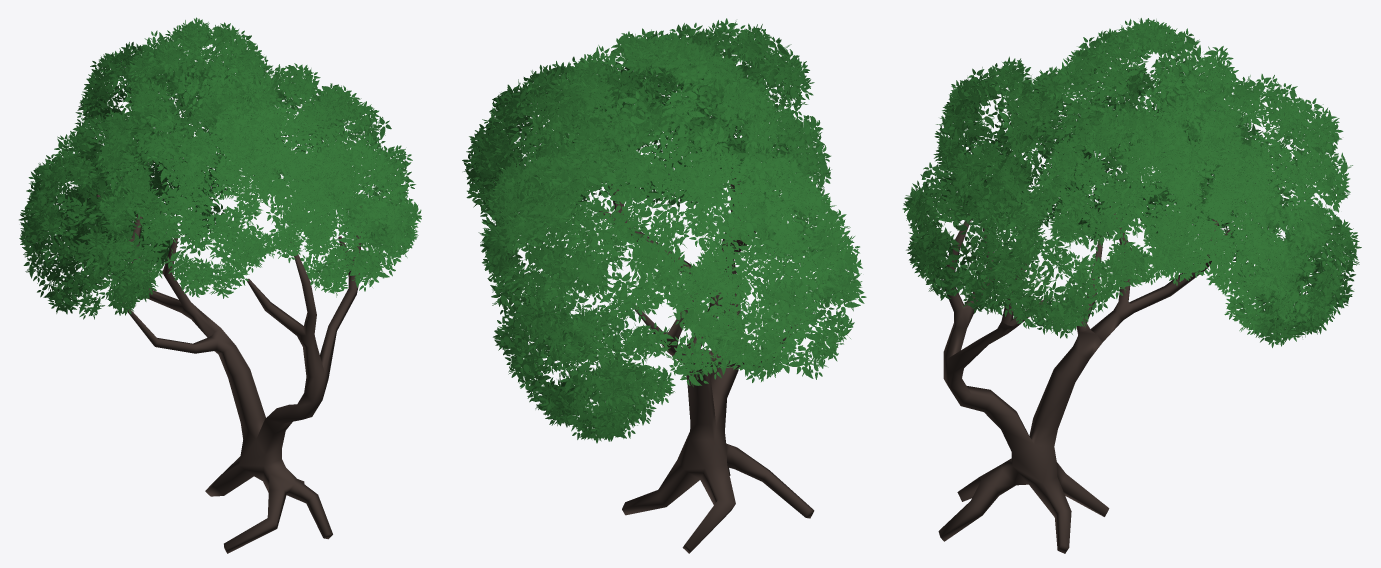
File: Tree1.fbx
The picture shows the model from 3 angles, left to right: view 1: azimuth 30°, elevation 25°; view 2: azimuth 150°, elevation 25°; view 3: azimuth 270°, elevation 25°; orthographic projection. The views are drawn at different scales.
Parts seen in each view (by area): view 1: Plane.006; view 2: Plane.006; view 3: Plane.006.
Boxes of the visible parts, x1=… form: Plane.006: x1=19, y1=17, x2=421, y2=553; Plane.006: x1=462, y1=18, x2=866, y2=553; Plane.006: x1=902, y1=18, x2=1361, y2=553.
Size of the model in its own units: 512 by 656 by 550.
2 materials, 1 textured.
